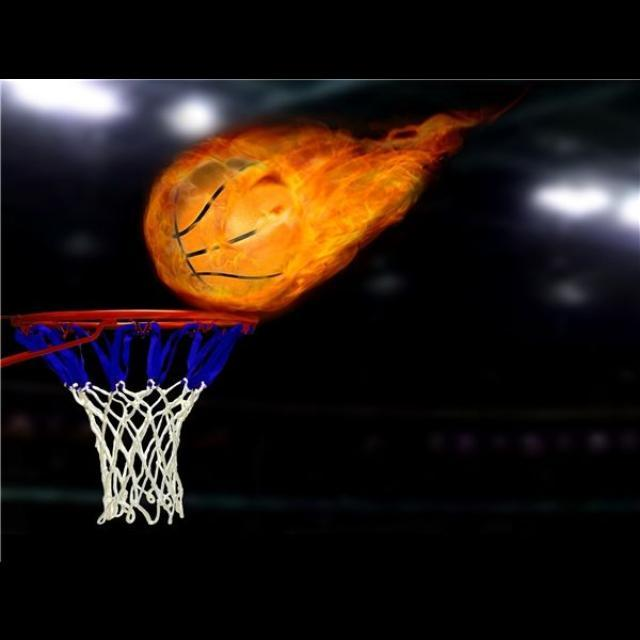rim: (13, 307, 258, 521)
